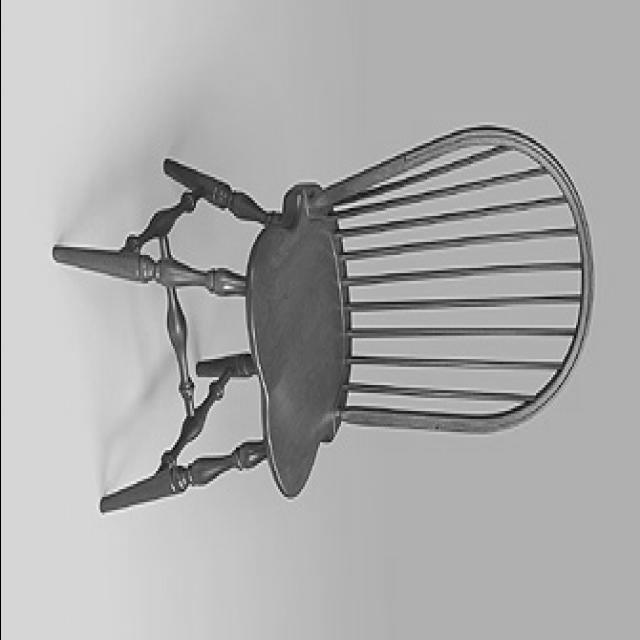chair: (51, 81, 594, 518)
